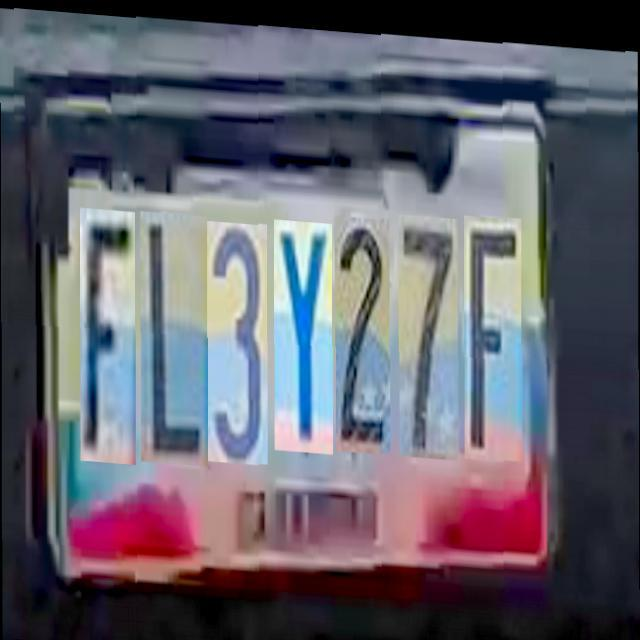2: (335, 208, 390, 446)
3: (207, 213, 267, 457)
7: (398, 206, 458, 452)
F: (464, 206, 522, 453), (80, 201, 135, 457)
L: (141, 204, 207, 458)
Y: (274, 212, 332, 446)
